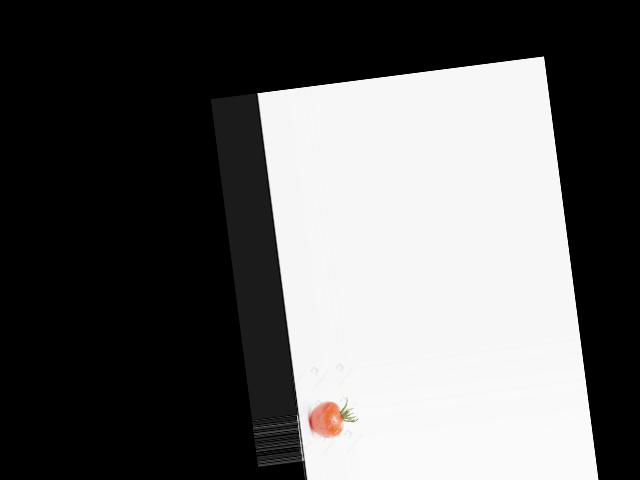tomato: (307, 399, 344, 439)
